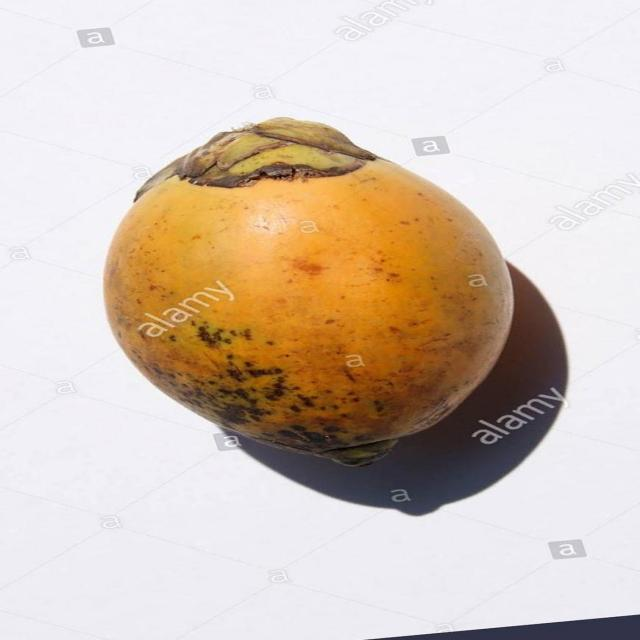good: (102, 115, 515, 470)
